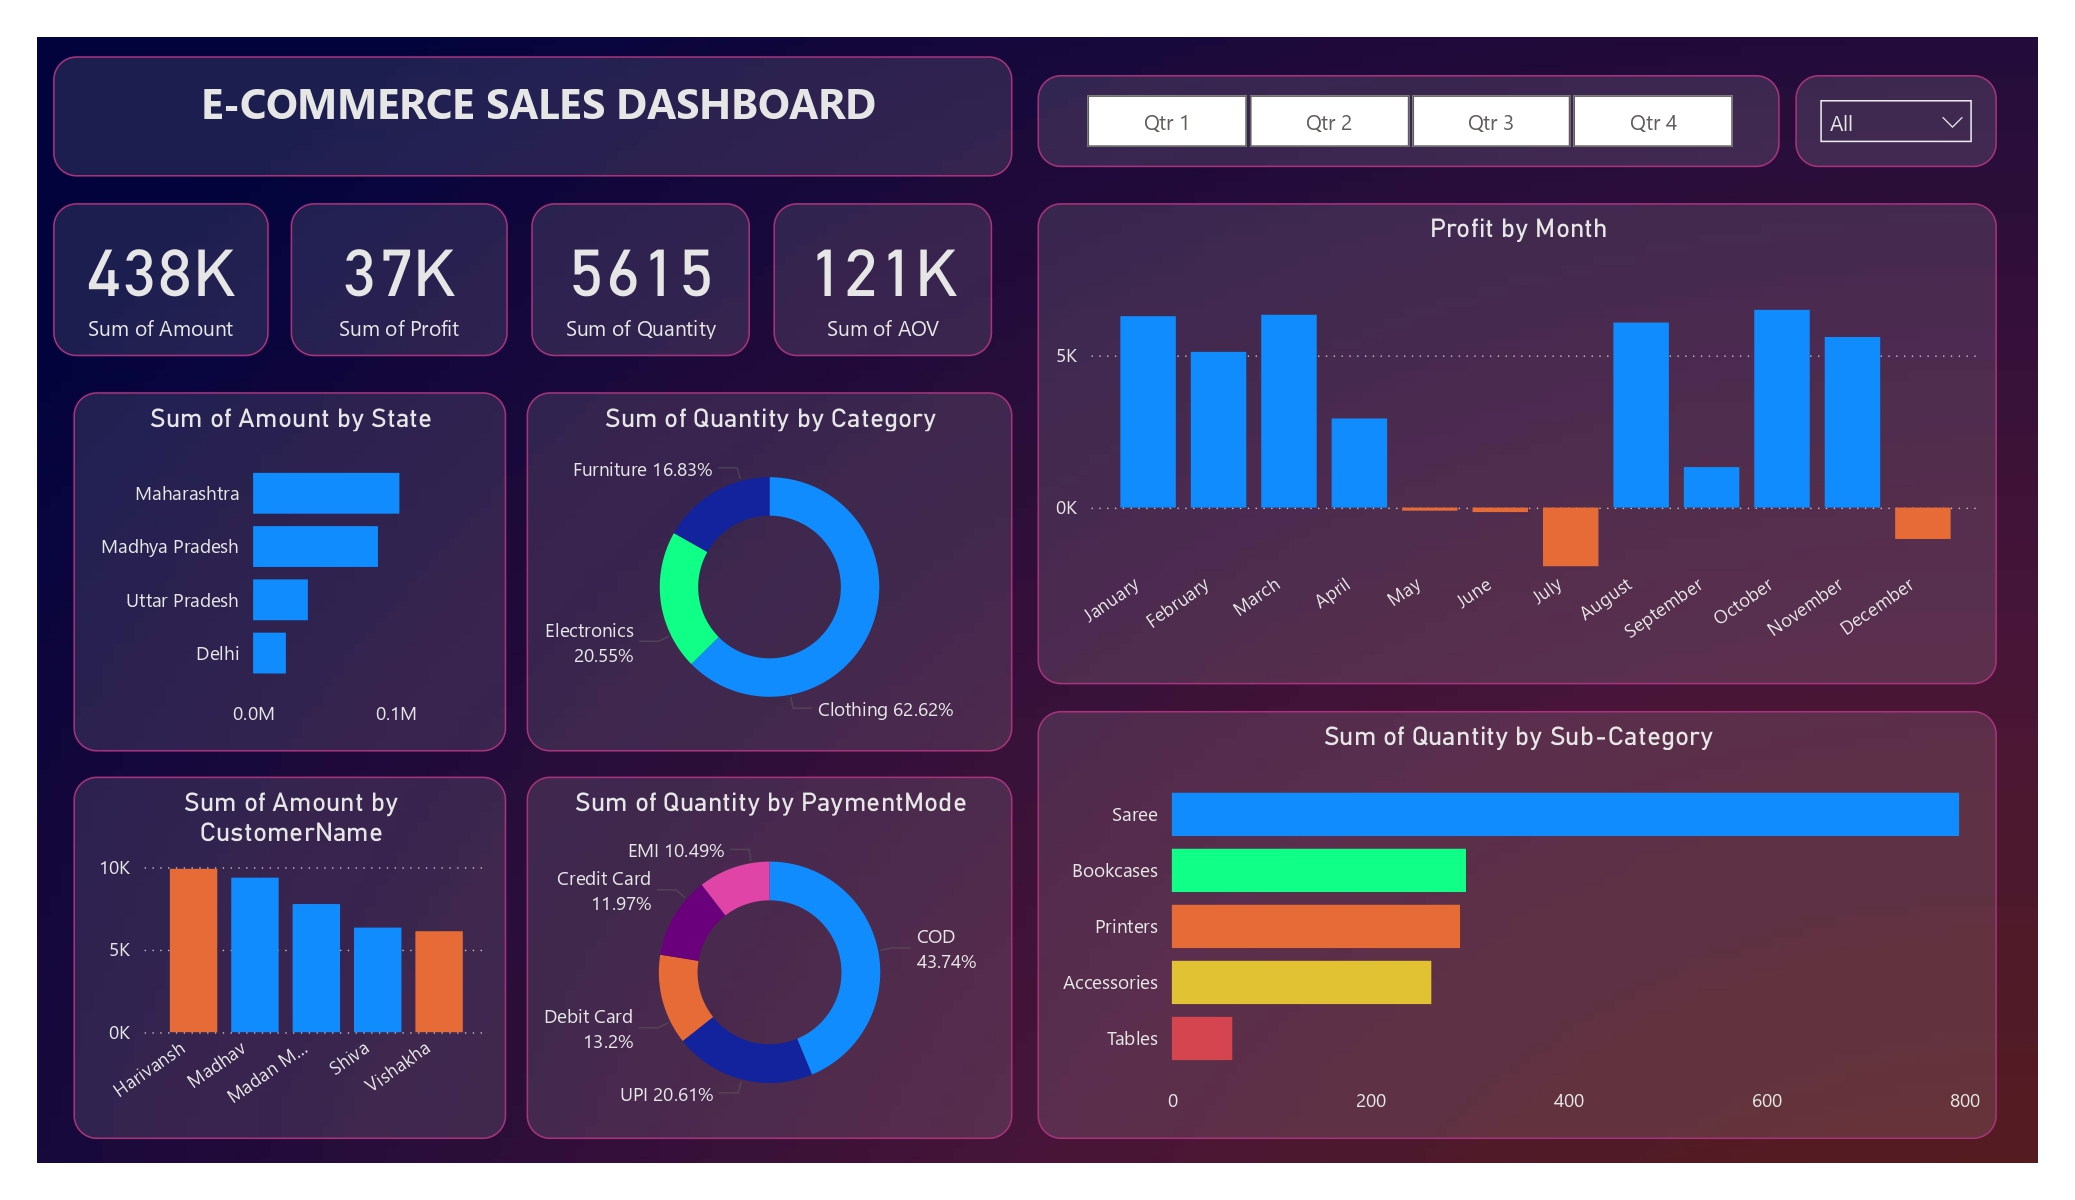

What the dashboard file says about the page in this screenshot:
{"tool":"powerbi","page":{"name":"Page 1","canvas":[1280,720],"ordinal":0},"visuals":[{"type":"textbox","box":[9.5,11.9,614.3,77.4],"z":0},{"type":"columnChart","title":"Profit by Month","fields":{"Y":["Sum(Details.Profit)"],"Category":["Orders.Order Date.Variation.Date Hierarchy.Month"]},"box":[640,105.7,613.6,308.6],"z":1000},{"type":"barChart","fields":{"Y":["Sum(Details.Quantity)"],"Category":["Details.Sub-Category"]},"box":[640,431.1,613.6,273.8],"z":2000},{"type":"donutChart","fields":{"Category":["Details.Category"],"Y":["Sum(Details.Quantity)"]},"box":[313.4,226.9,311,230.5],"z":3000},{"type":"donutChart","fields":{"Category":["Details.PaymentMode"],"Y":["Sum(Details.Quantity)"]},"box":[313.4,473.1,311,231.7],"z":4000},{"type":"clusteredBarChart","fields":{"Category":["Orders.State"],"Y":["Sum(Details.Amount)"]},"box":[22.8,226.9,277.4,230.5],"z":5000},{"type":"columnChart","fields":{"Category":["Orders.CustomerName"],"Y":["Sum(Details.Amount)"]},"box":[22.8,473.1,277.4,231.7],"z":6000},{"type":"card","fields":{"Values":["Sum(Details.Amount)"]},"box":[9.6,105.7,138.6,98.8],"z":7000},{"type":"card","fields":{"Values":["Sum(Details.Profit)"]},"box":[161.9,105.7,138.6,98.8],"z":8000},{"type":"card","fields":{"Values":["Sum(Details.Quantity)"]},"box":[315.6,105.7,140,98.8],"z":9000},{"type":"card","fields":{"Values":["Sum(Details.AOV)"]},"box":[470.7,105.7,140,98.8],"z":10000},{"type":"slicer","fields":{"Values":["Orders.Order Date.Variation.Date Hierarchy.Quarter"]},"box":[640.5,23.8,475,59.5],"z":11000},{"type":"slicer","fields":{"Values":["Orders.State"]},"box":[1125,23.8,128.6,59.5],"z":12000}]}

Visuals, with their boxes on the page's 1280x720 design canvas (x1, y1, x2, y2). These are canvas units, not pixel positions in the 2075x1200 screenshot, which may show the page scaled, cropped or inside an application window:
textbox: <region>10, 12, 624, 89</region>
"Profit by Month" columnChart: <region>640, 106, 1254, 414</region>
barChart - Sum(Details.Quantity) x Details.Sub-Category: <region>640, 431, 1254, 705</region>
donutChart - Details.Category x Sum(Details.Quantity): <region>313, 227, 624, 457</region>
donutChart - Details.PaymentMode x Sum(Details.Quantity): <region>313, 473, 624, 705</region>
clusteredBarChart - Orders.State x Sum(Details.Amount): <region>23, 227, 300, 457</region>
columnChart - Orders.CustomerName x Sum(Details.Amount): <region>23, 473, 300, 705</region>
card - Sum(Details.Amount): <region>10, 106, 148, 204</region>
card - Sum(Details.Profit): <region>162, 106, 300, 204</region>
card - Sum(Details.Quantity): <region>316, 106, 456, 204</region>
card - Sum(Details.AOV): <region>471, 106, 611, 204</region>
slicer - Orders.Order Date.Variation.Date Hierarchy.Quarter: <region>640, 24, 1116, 83</region>
slicer - Orders.State: <region>1125, 24, 1254, 83</region>
